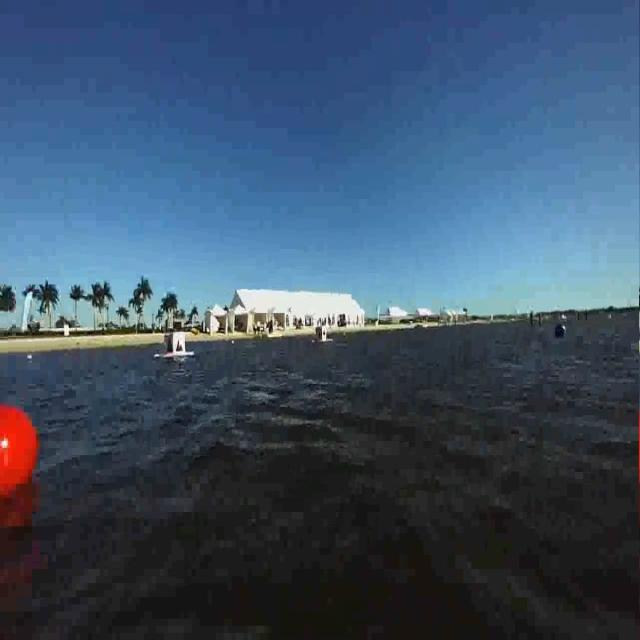blue-buoy: (553, 323, 570, 342)
red-buoy: (0, 404, 39, 502)
